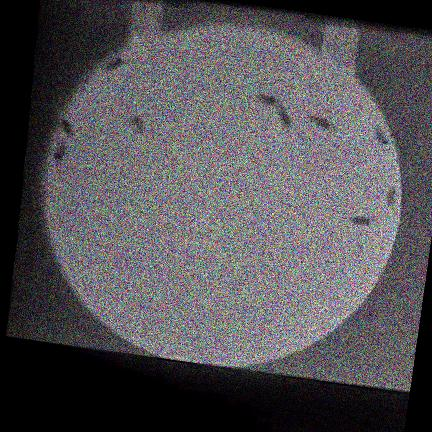fly: (310, 116, 335, 132), (373, 125, 390, 148), (126, 114, 144, 135), (277, 103, 291, 130), (52, 138, 65, 165), (104, 57, 126, 71), (257, 93, 277, 106), (59, 119, 73, 137), (348, 216, 371, 226), (385, 187, 396, 205)
